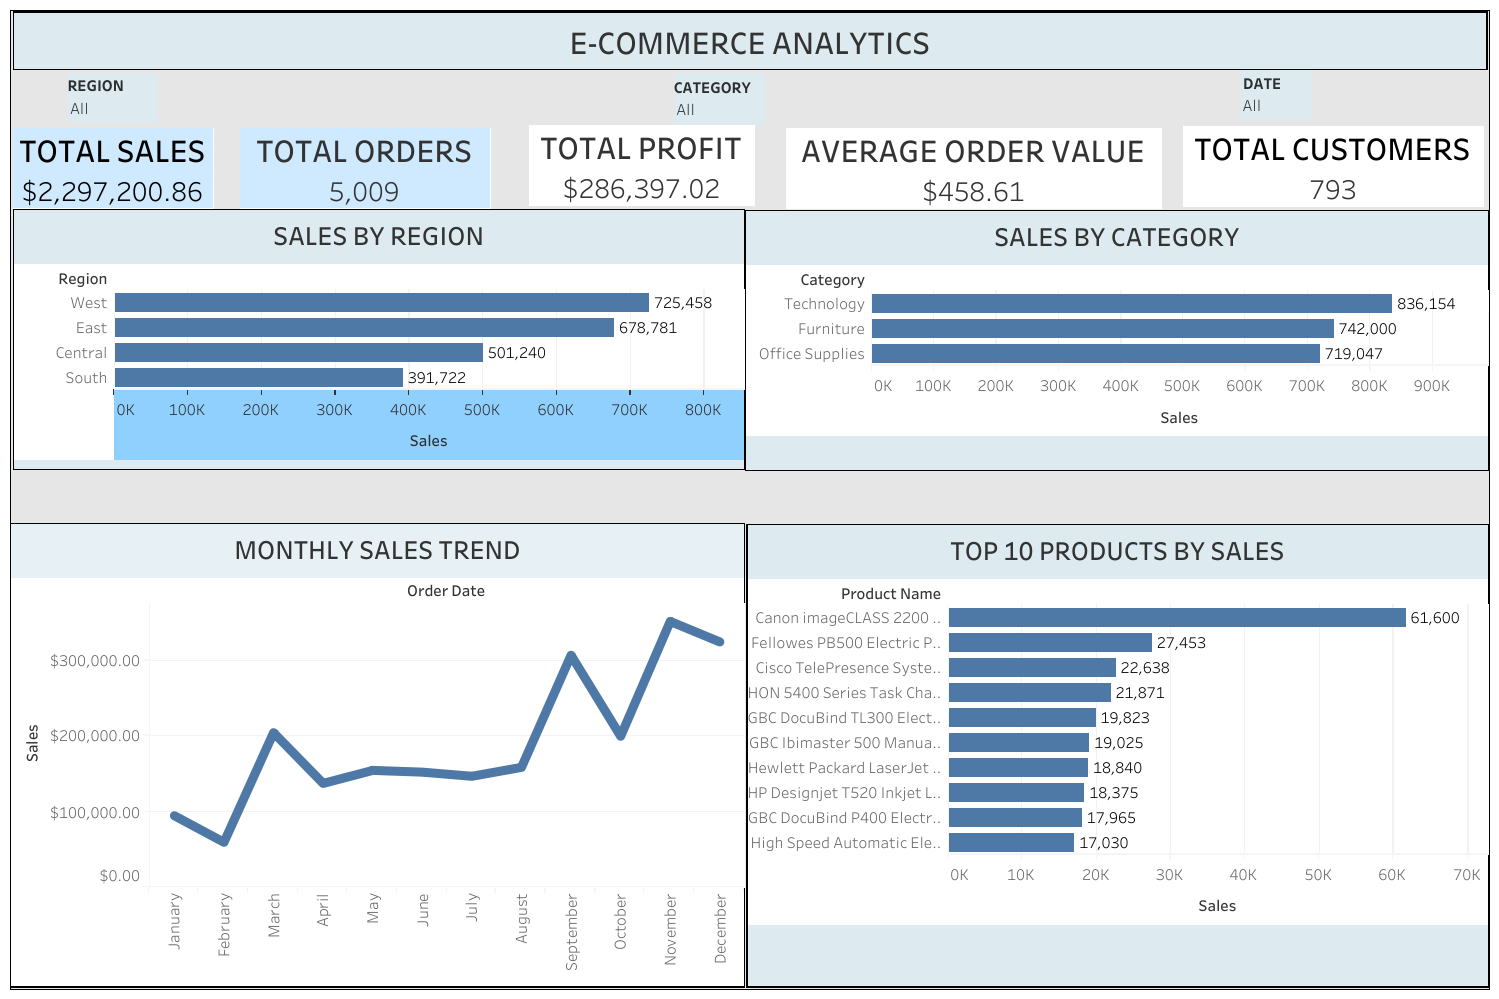

This screenshot's page, from the dashboard's own definition file:
{"tool":"tableau","page":{"name":"Dashboard 1","canvas":[1200,800],"ordinal":0},"visuals":[{"type":"worksheet","title":"E-COMMERCE ANALYTICS","mark":"Automatic","box":[10,9,1180,47]},{"type":"filter","title":"SALES TREND","param":"[federated.1inol071y0hgq7100gqcu0dsc2ck].[mn:Order Date:ok]","box":[992,56,57,40]},{"type":"filter","title":"SALES BY REGION","param":"[federated.1inol071y0hgq7100gqcu0dsc2ck].[none:Region:nk]","box":[54,58,72,40]},{"type":"filter","title":"SALES BY CATEGORY","param":"[federated.1inol071y0hgq7100gqcu0dsc2ck].[none:Category:nk]","box":[539,59,73,41]},{"type":"worksheet","title":"KPI - Total Profit","mark":"Automatic","box":[423,100,180,65]},{"type":"worksheet","title":"KPI- TOTAL CUSTOMERS","mark":"Automatic","box":[946,101,243,65]},{"type":"worksheet","title":"KPI-TOTAL SALES","mark":"Text","box":[10,102,164,65]},{"type":"worksheet","title":"KPI-TOTAL ORDERS","mark":"Automatic","box":[192,102,202,65]},{"type":"worksheet","title":"KPI - Average Order Value","mark":"Automatic","box":[629,102,301,65]},{"type":"worksheet","title":"SALES BY REGION","mark":"Bar","rows":["Region"],"cols":["Sales"],"box":[10,167,586,209]},{"type":"worksheet","title":"SALES BY CATEGORY","mark":"Bar","rows":["Category"],"cols":["Sales"],"box":[596,168,595,209]},{"type":"worksheet","title":"SALES TREND","mark":"Line","rows":["Sales"],"cols":["Order Date"],"box":[8,418,588,372]},{"type":"worksheet","title":"TOP 10 PRODUCTS BY SALES","mark":"Automatic","rows":["Product Name"],"cols":["Sales"],"box":[597,419,594,371]}]}

Visuals, with their boxes in screenshot pixels (x1, y1, x2, y2), scaled from the page's 1200x800 canvas onto the 1499x999 screenshot:
"E-COMMERCE ANALYTICS" worksheet: detection(12, 11, 1487, 70)
"SALES TREND" filter: detection(1239, 70, 1310, 120)
"SALES BY REGION" filter: detection(67, 72, 157, 122)
"SALES BY CATEGORY" filter: detection(673, 74, 764, 125)
"KPI - Total Profit" worksheet: detection(528, 125, 753, 206)
"KPI- TOTAL CUSTOMERS" worksheet: detection(1182, 126, 1485, 207)
"KPI-TOTAL SALES" worksheet (Text marks): detection(12, 127, 217, 209)
"KPI-TOTAL ORDERS" worksheet: detection(240, 127, 492, 209)
"KPI - Average Order Value" worksheet: detection(786, 127, 1162, 209)
"SALES BY REGION" worksheet (Bar marks): detection(12, 209, 745, 470)
"SALES BY CATEGORY" worksheet (Bar marks): detection(745, 210, 1488, 471)
"SALES TREND" worksheet (Line marks): detection(10, 522, 745, 987)
"TOP 10 PRODUCTS BY SALES" worksheet: detection(746, 523, 1488, 987)
